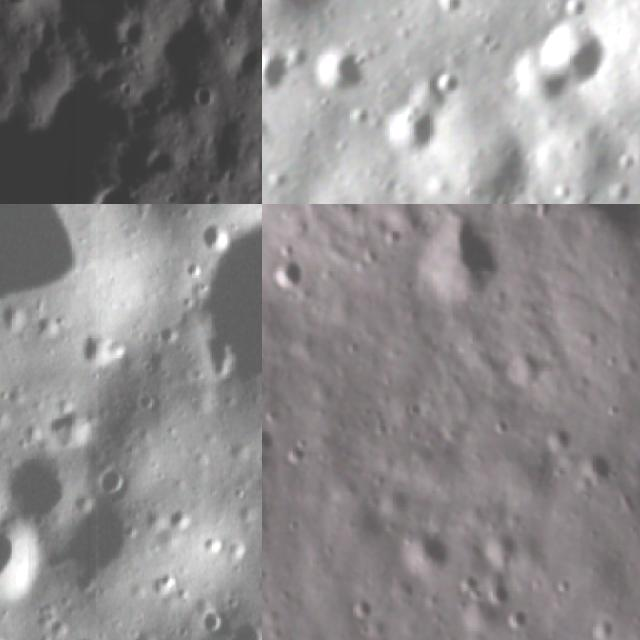crater: (172, 217, 262, 408), (434, 116, 563, 204), (522, 0, 631, 99), (57, 491, 163, 592), (402, 209, 506, 309), (0, 439, 96, 531), (38, 0, 151, 72), (490, 33, 581, 121), (371, 87, 459, 171), (0, 502, 61, 619), (306, 28, 382, 102), (262, 0, 358, 32), (398, 528, 456, 578), (262, 36, 303, 105), (426, 58, 472, 106), (75, 329, 123, 371), (140, 143, 182, 190), (182, 82, 225, 120), (115, 12, 152, 56), (196, 218, 236, 256), (269, 255, 310, 292), (217, 0, 259, 35), (430, 0, 479, 29), (78, 184, 146, 204), (583, 451, 617, 484), (346, 591, 379, 624), (544, 422, 576, 452), (220, 618, 262, 640), (281, 442, 309, 472), (262, 422, 278, 454)
